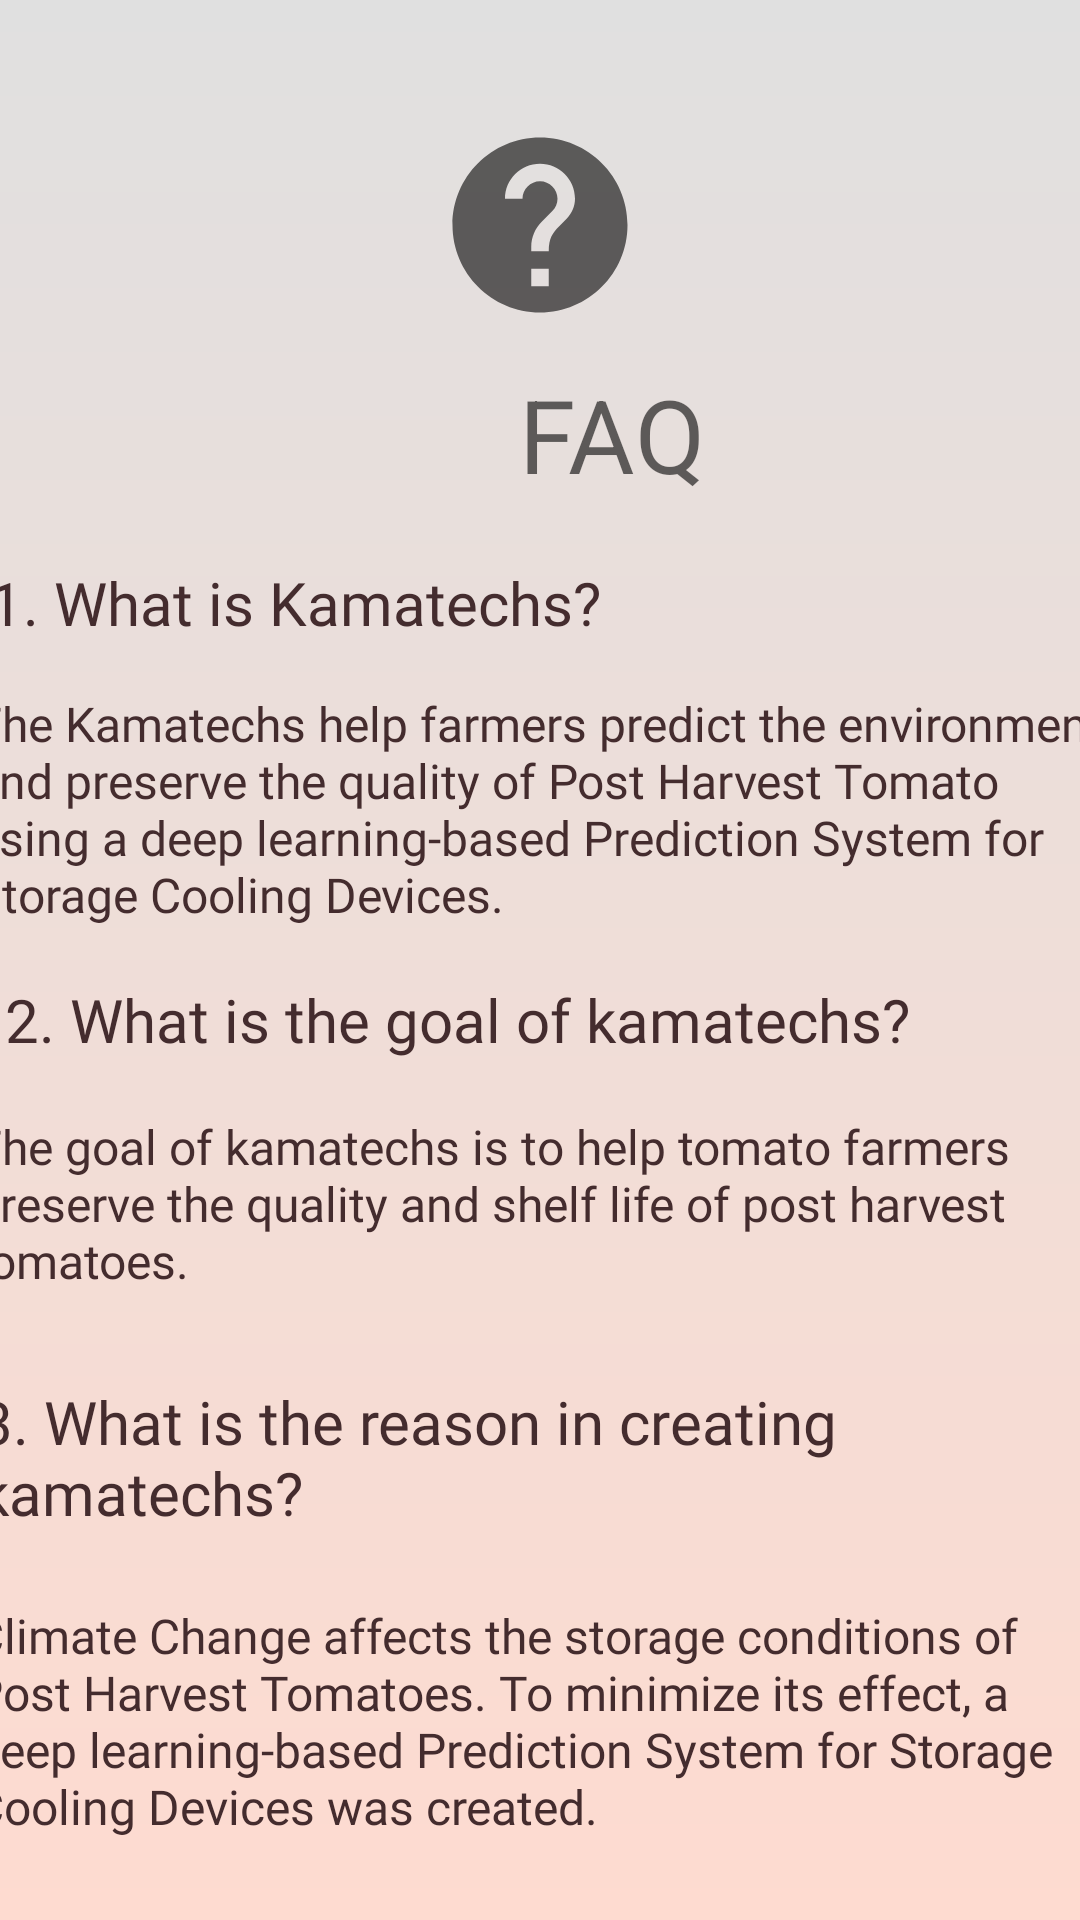

Where icons sit on this 1080px×1920px app screen, as (x1, y1, x2, y2):
question mark: (452, 137, 628, 313)
